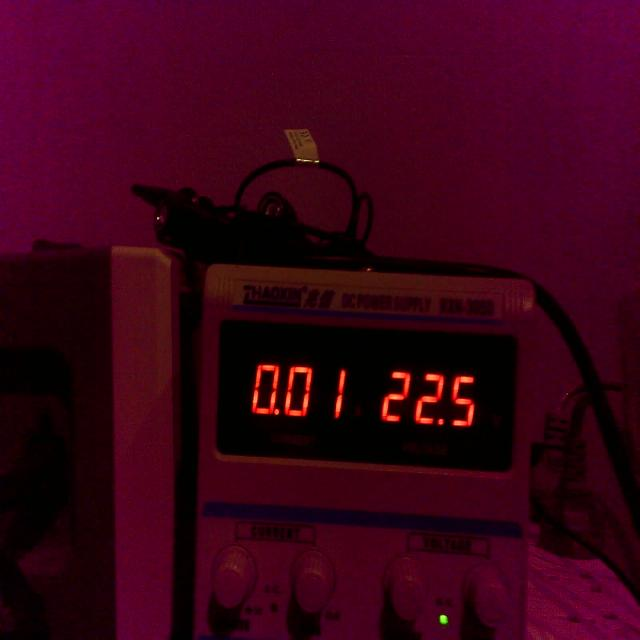.: (437, 417, 445, 428), (274, 408, 280, 417)
0: (252, 364, 279, 415), (285, 366, 312, 416)
1: (332, 352, 347, 437)
2: (414, 317, 444, 480), (382, 370, 411, 422)
5: (448, 302, 478, 502)
